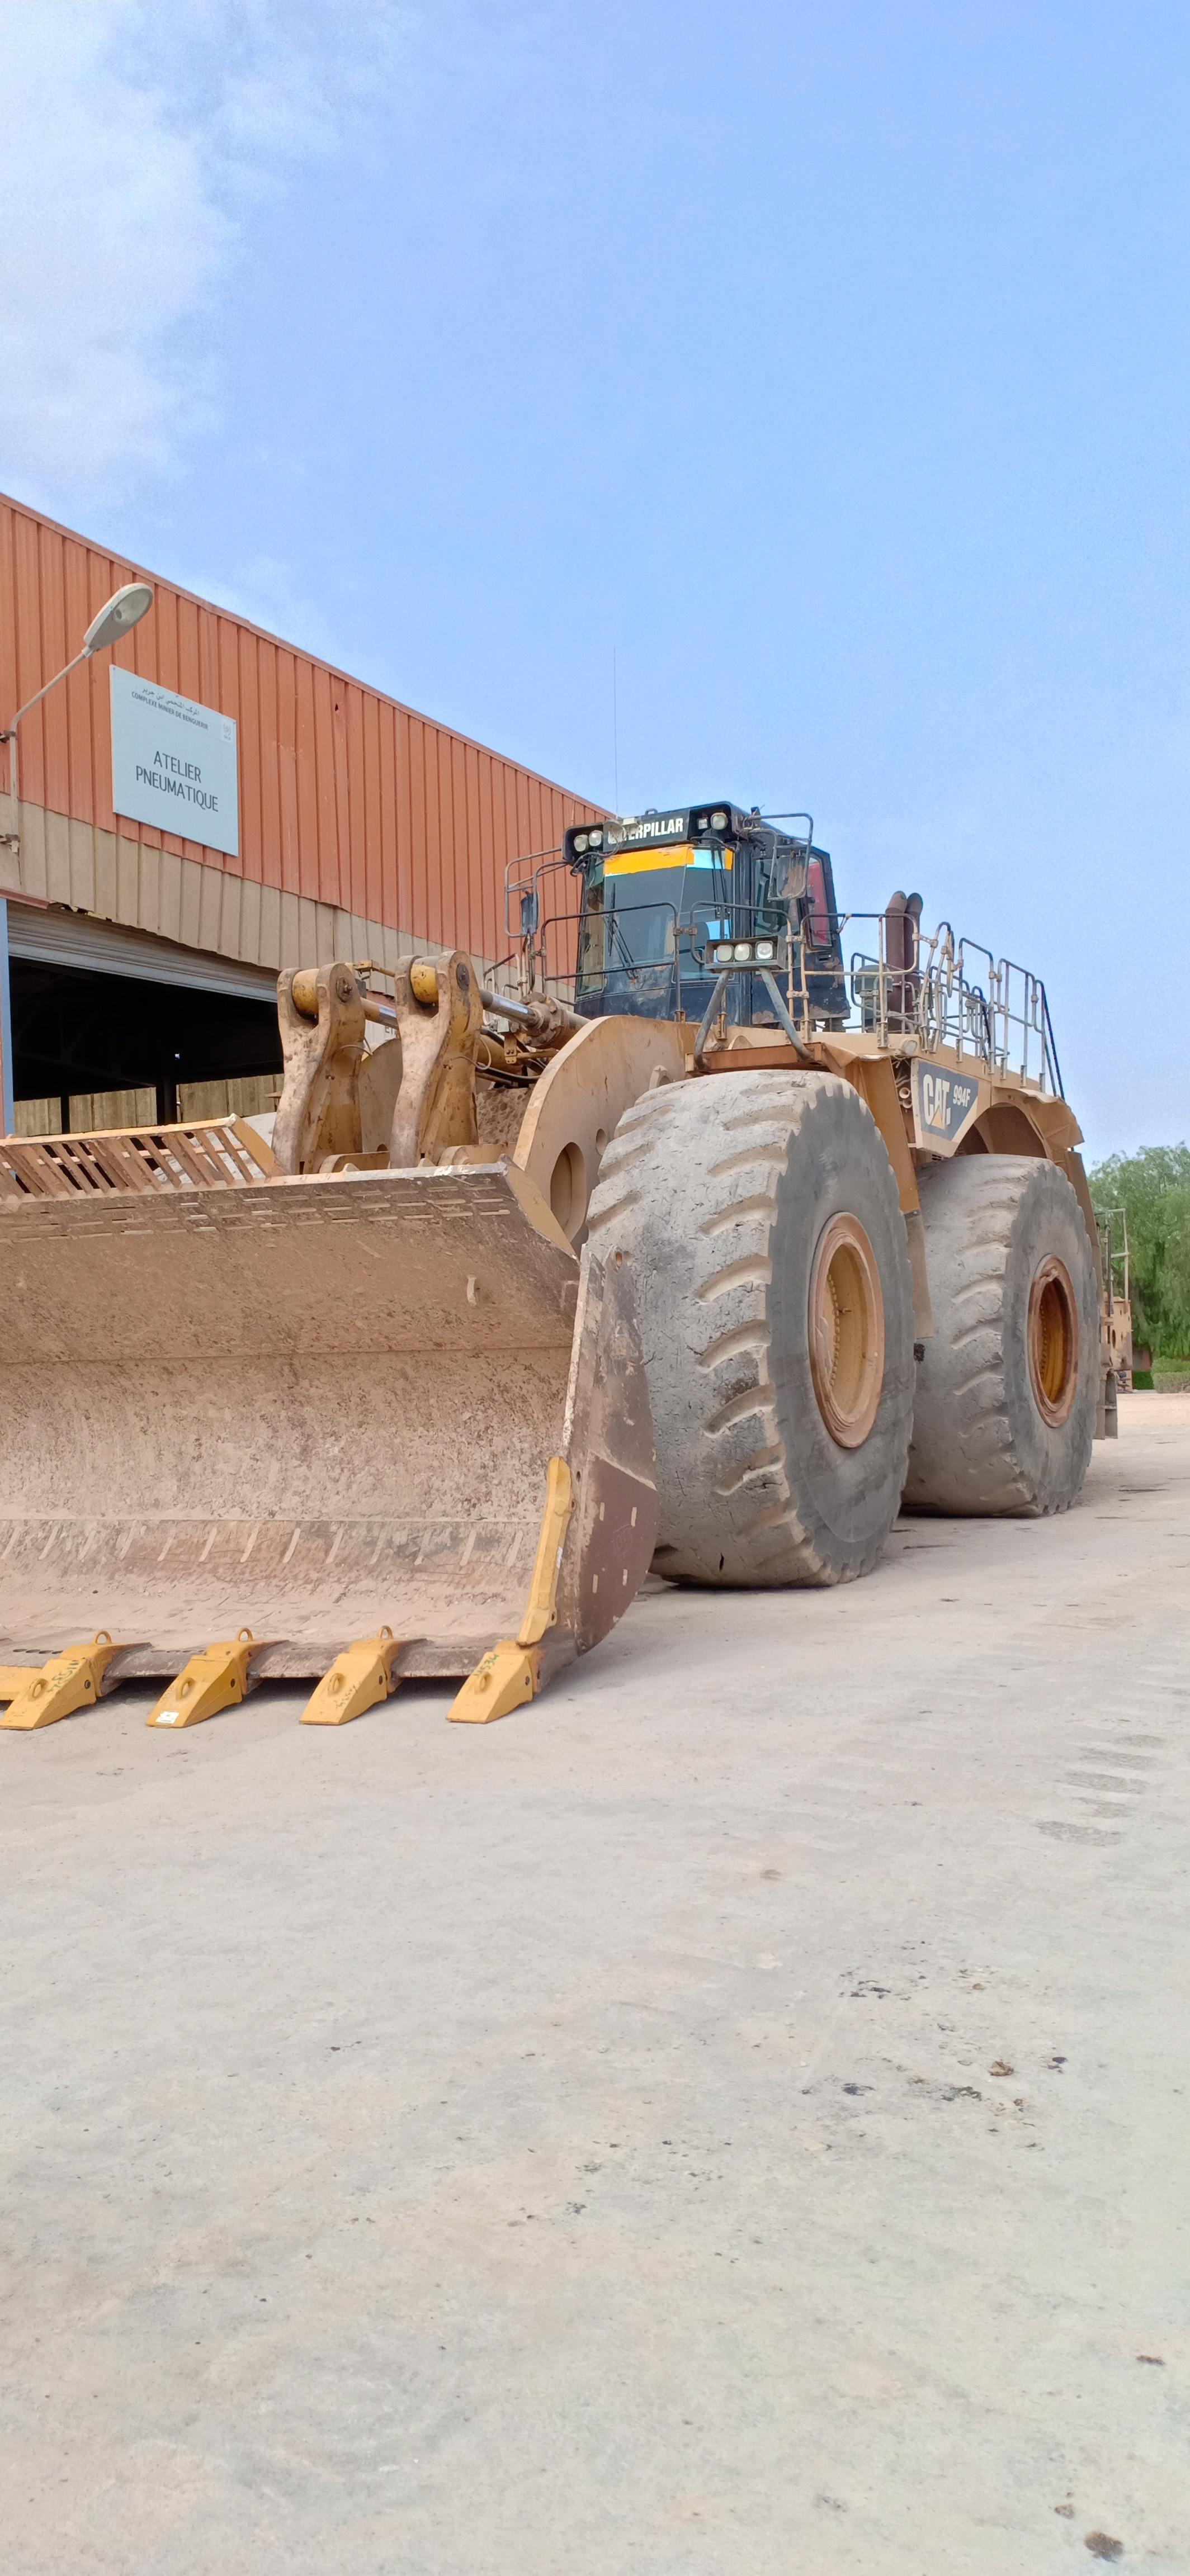chargeuse: (0, 767, 1141, 1794)
